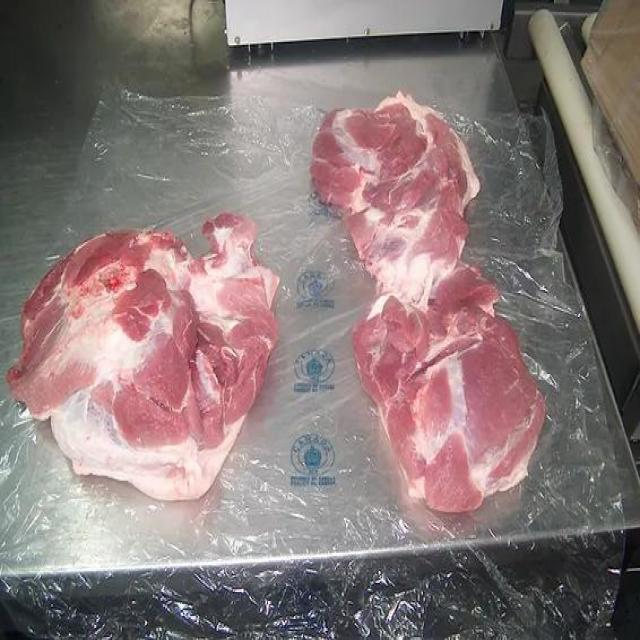pork: (11, 237, 280, 472), (352, 264, 548, 528), (310, 87, 478, 289)
